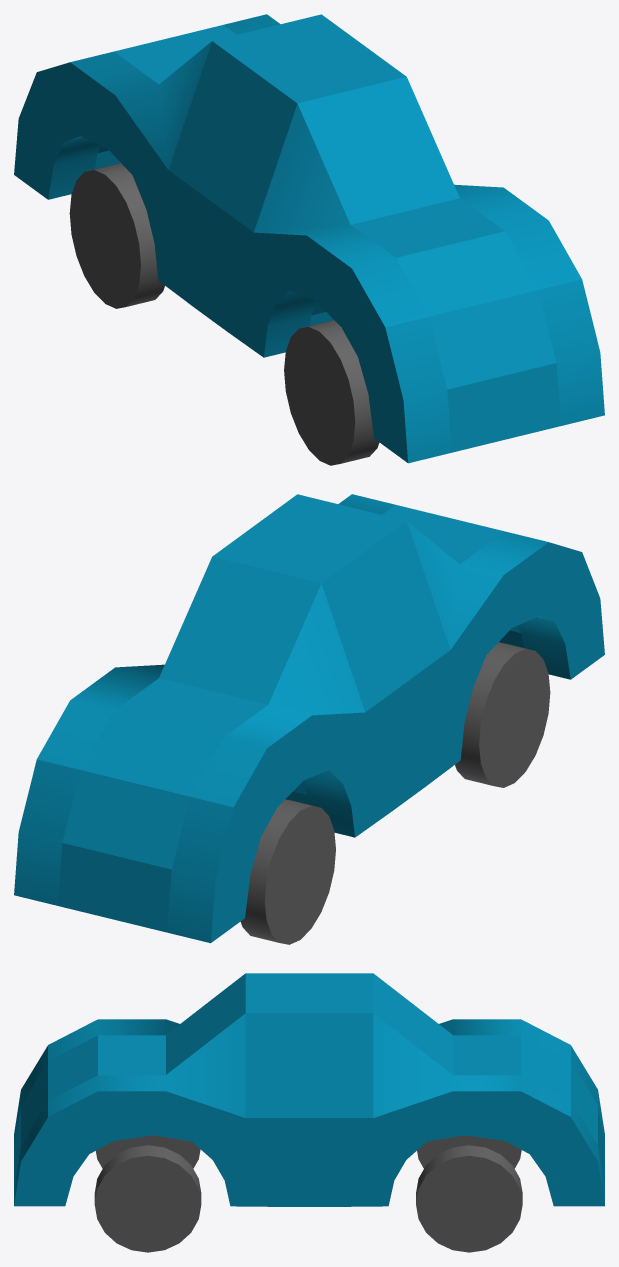
The model's file is blue_car.glb.
3 renders of one model, top to bottom at view 1: azimuth 30°, elevation 25°; view 2: azimuth 150°, elevation 25°; view 3: azimuth 270°, elevation 25°, orthographic. The views are drawn at different scales.
Parts seen in each view (by area): view 1: polySurface12, pCylinder1, pCylinder2; view 2: polySurface12, pCylinder2, pCylinder1; view 3: polySurface12, pCylinder3, pCylinder4, pCylinder2, pCylinder1.
Boxes of the visible parts, box(x1,y1,x2,y2) form: polySurface12: box(14, 14, 604, 463); pCylinder1: box(284, 320, 379, 465); pCylinder2: box(69, 163, 164, 308); polySurface12: box(14, 494, 604, 943); pCylinder2: box(240, 799, 335, 944); pCylinder1: box(455, 642, 550, 787); polySurface12: box(14, 973, 604, 1206); pCylinder3: box(94, 1145, 201, 1252); pCylinder4: box(416, 1145, 522, 1252); pCylinder2: box(417, 1135, 521, 1168); pCylinder1: box(96, 1135, 200, 1168).
Bounding box in the file's own units: 15.94 × 23.17 × 55.3.
